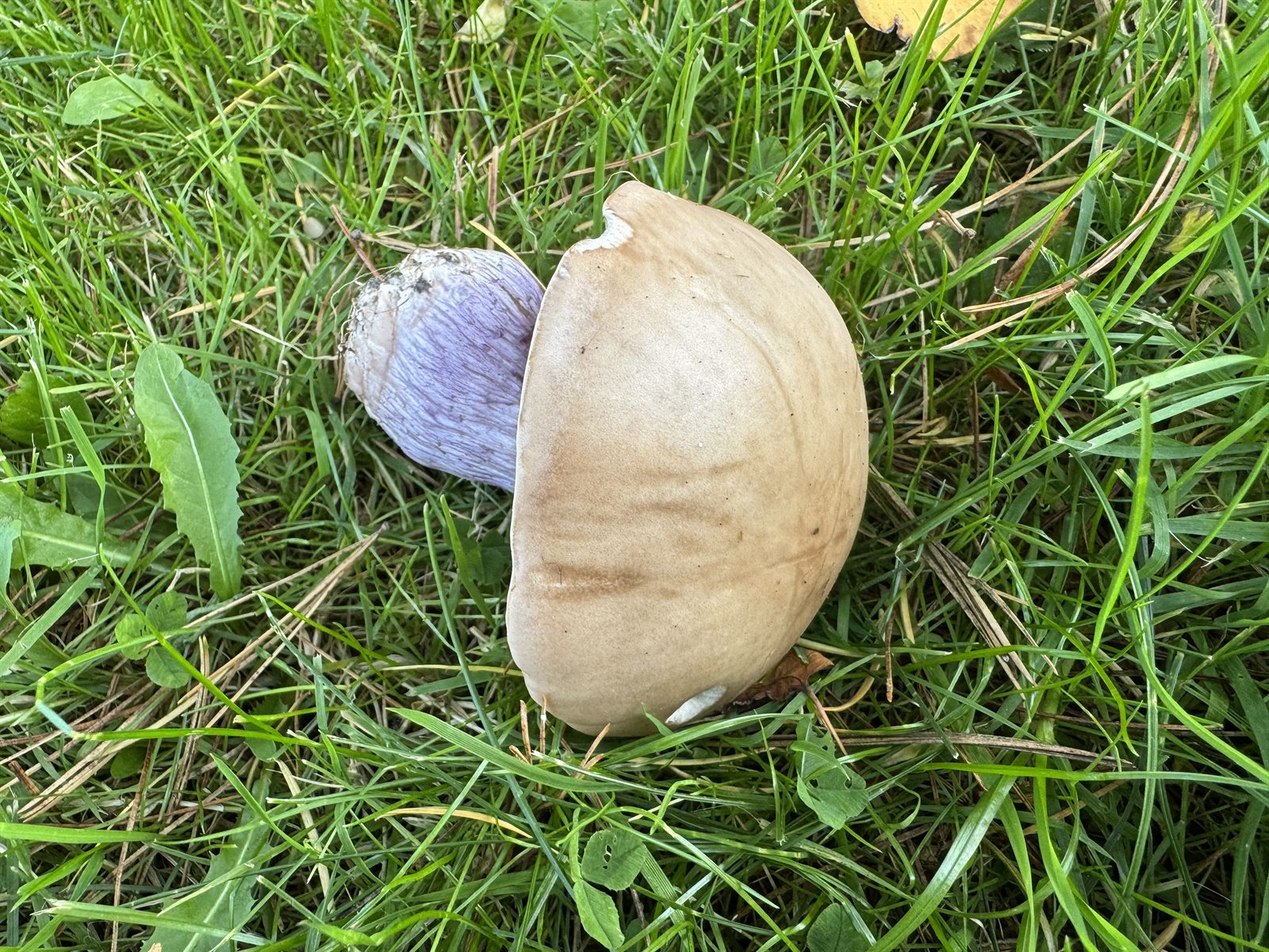cap: (507, 182, 867, 735)
stem: (342, 248, 542, 489)
